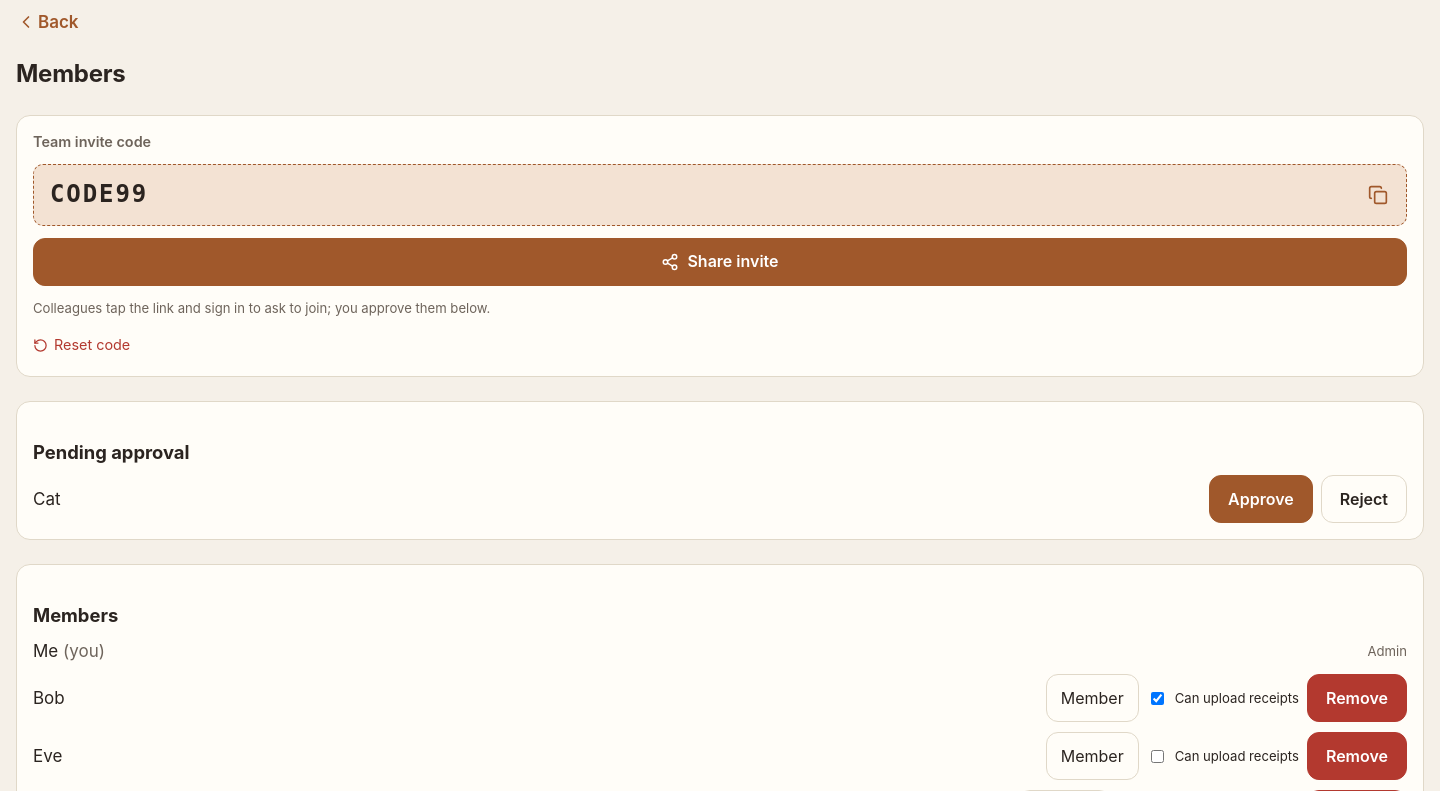
MembersPage › admin: shows the invite code and resets it
expect the text "CODE99" is shown: met, box [50,176,148,213]
Click the button "Reset code". click: click(82, 345)
box: [33,330,130,360]
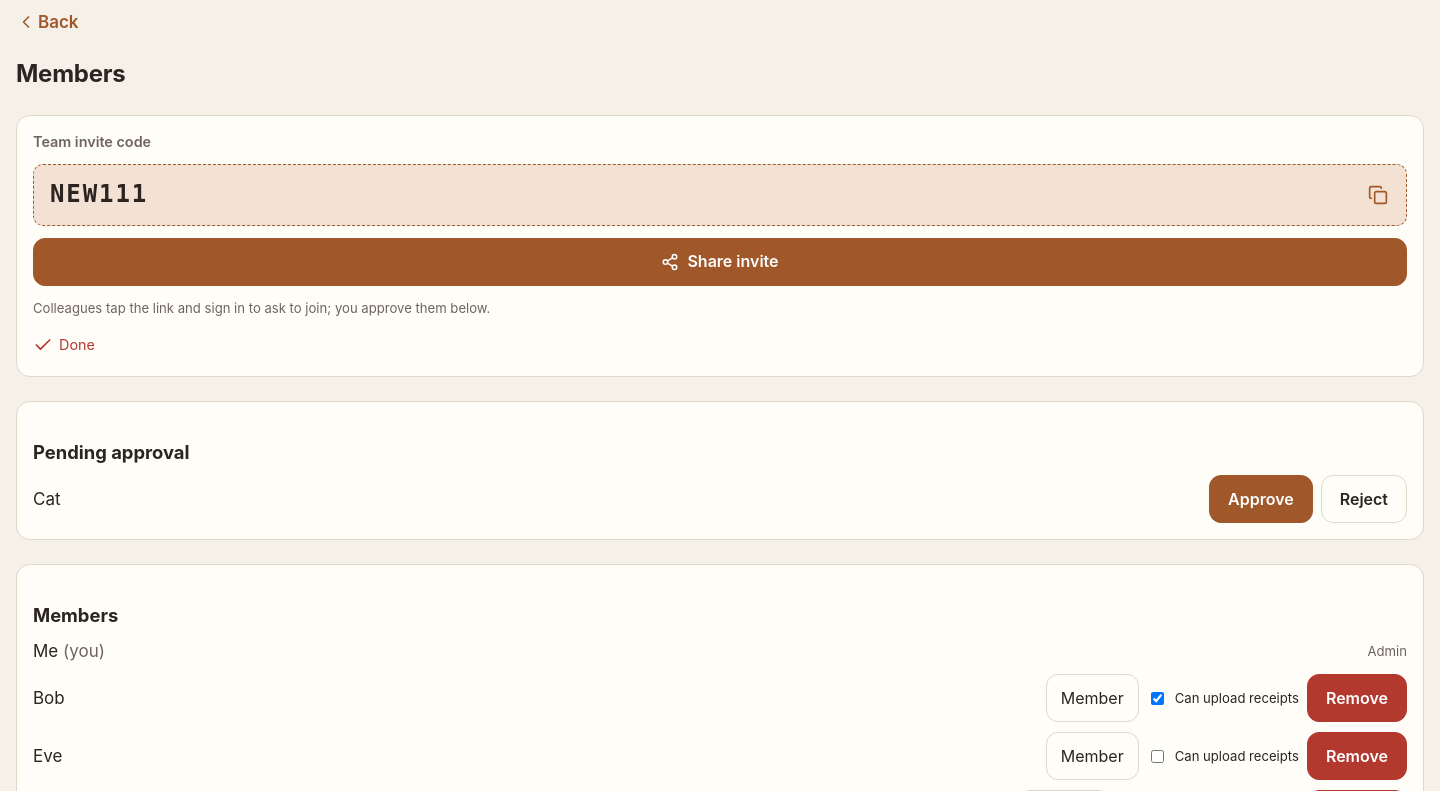
expect the text "NEW111" is shown: met, box [50,176,148,213]
